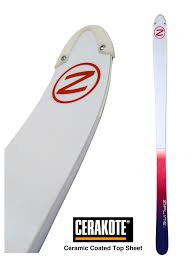skis: (1, 15, 169, 259)
